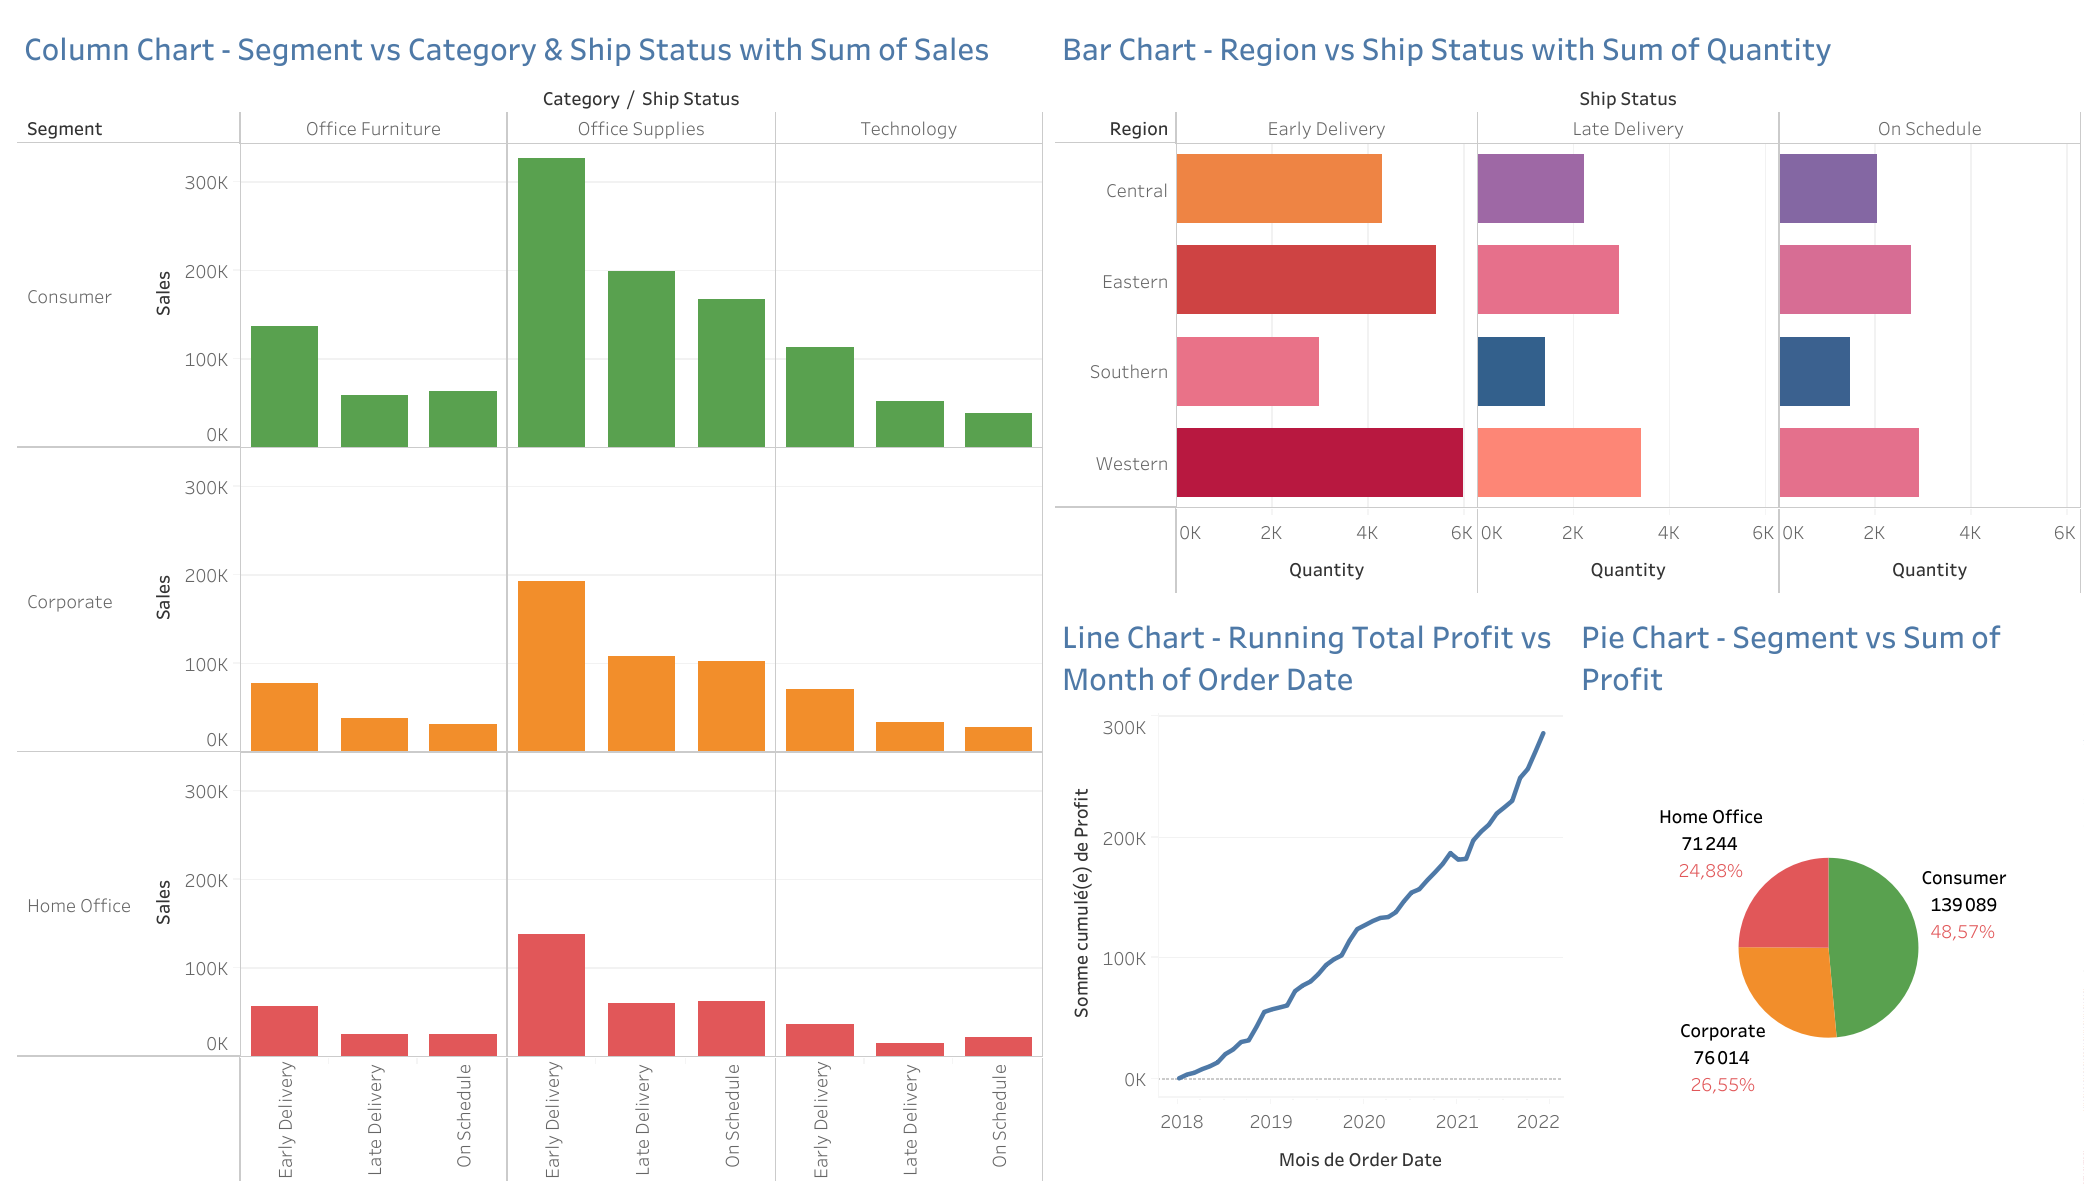

The page's visual inventory and layout, read from the dashboard file:
{"tool":"tableau","page":{"name":"Tableau de bord 1","canvas":[1400,800],"ordinal":0},"visuals":[{"type":"worksheet","title":"Feuille 1","mark":"Automatic","rows":["Segment","Sales"],"cols":["Category","Ship Status"],"box":[8,8,692,784]},{"type":"worksheet","title":"Feuille 2","mark":"Automatic","rows":["Region"],"cols":["Ship Status","Quantity"],"box":[700,8,692,392]},{"type":"worksheet","title":"Feuille 3","mark":"Automatic","rows":["Profit"],"cols":["Order Date"],"box":[700,400,346,392]},{"type":"worksheet","title":"Feuille 4","mark":"Pie","box":[1046,400,346,392]}]}

Visuals, with their boxes in screenshot pixels (x1, y1, x2, y2), scaled from the page's 1400x800 canvas onto the 2099x1199 screenshot:
"Feuille 1" worksheet: locate(12, 12, 1050, 1187)
"Feuille 2" worksheet: locate(1050, 12, 2087, 600)
"Feuille 3" worksheet: locate(1050, 600, 1568, 1187)
"Feuille 4" worksheet (Pie marks): locate(1568, 600, 2087, 1187)
